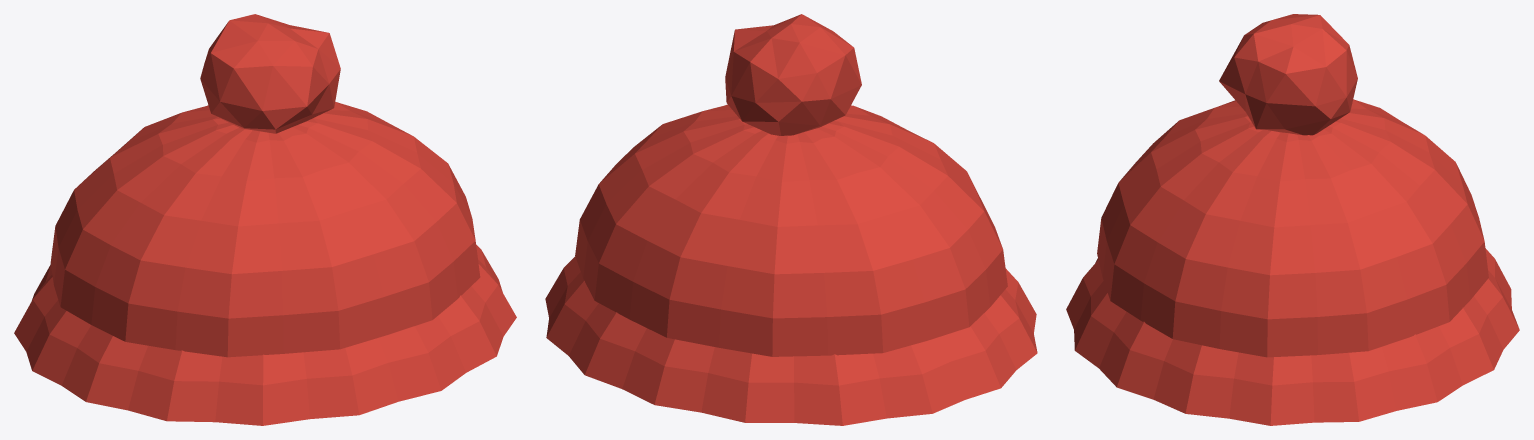
The model's file is red_beanie.glb.
3 views of the same model, side by side, from view 1: azimuth 30°, elevation 25°; view 2: azimuth 150°, elevation 25°; view 3: azimuth 270°, elevation 25° (orthographic). The views are drawn at different scales.
Visible parts, largest first — view 1: red_beanie; view 2: red_beanie; view 3: red_beanie.
Part boxes in pixels (left/top/right/bottom): red_beanie: left=14, top=14, right=516, bottom=425; red_beanie: left=545, top=14, right=1037, bottom=425; red_beanie: left=1066, top=14, right=1519, bottom=425.
Bounding box in the file's own units: 0.6309 × 0.4107 × 0.5698.
